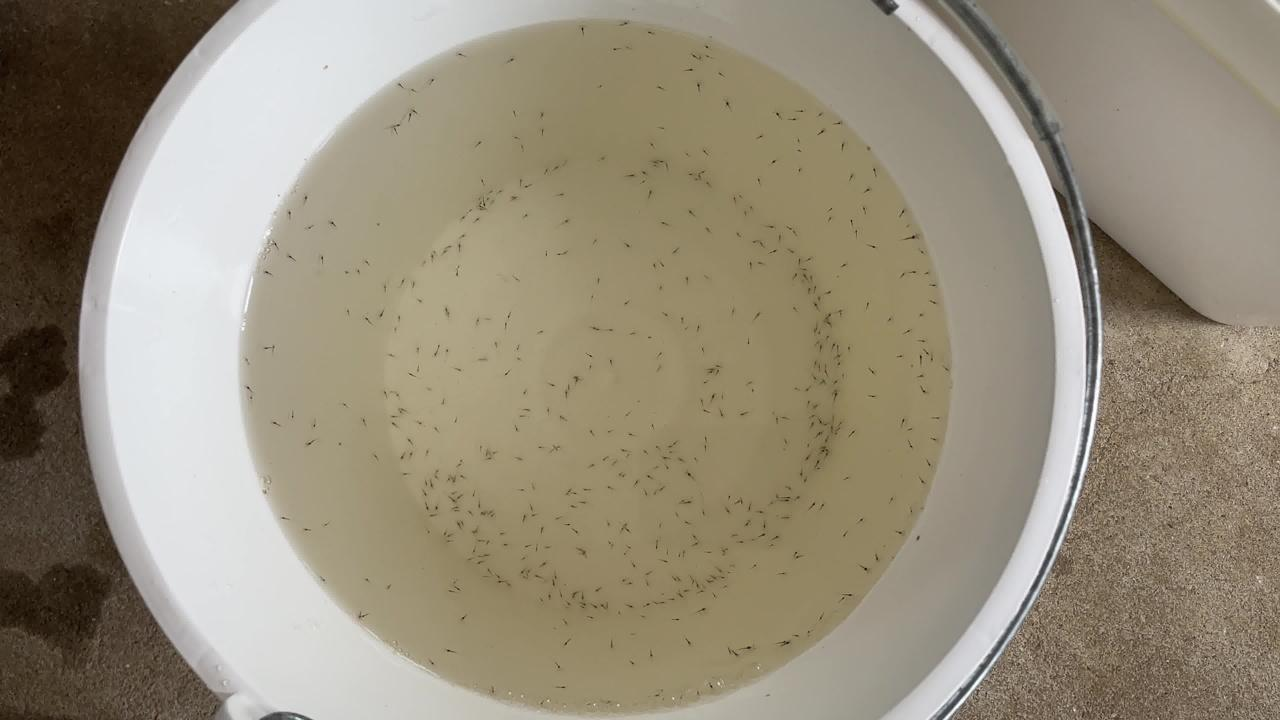shrimp: (302, 200, 314, 208), (285, 213, 297, 221), (270, 245, 282, 253), (263, 267, 275, 275), (260, 345, 272, 353), (266, 345, 278, 353), (245, 360, 257, 368), (241, 386, 253, 394), (246, 396, 258, 404), (286, 253, 298, 261), (310, 223, 322, 231), (327, 221, 339, 229), (316, 252, 328, 260), (339, 272, 351, 280), (357, 269, 369, 277), (362, 261, 374, 269), (390, 128, 402, 136), (388, 121, 400, 129), (401, 116, 413, 124), (408, 110, 420, 118), (393, 80, 405, 88), (404, 85, 416, 93), (423, 82, 435, 90), (452, 57, 464, 65), (505, 58, 517, 66), (271, 420, 283, 428), (283, 412, 295, 420), (306, 425, 318, 433), (304, 439, 316, 447), (280, 515, 292, 523), (301, 525, 313, 533), (318, 521, 330, 529), (319, 579, 331, 587), (363, 578, 375, 586), (353, 611, 365, 619), (359, 611, 371, 619), (385, 585, 397, 593), (426, 658, 438, 666), (442, 650, 454, 658), (460, 619, 472, 627), (445, 589, 457, 597), (452, 585, 464, 593), (447, 580, 459, 588), (554, 686, 566, 694), (549, 660, 561, 668), (557, 640, 569, 648), (609, 643, 621, 651), (630, 662, 642, 670), (646, 651, 658, 659), (651, 693, 663, 701), (601, 700, 613, 708), (722, 648, 734, 656), (733, 653, 745, 661), (707, 682, 719, 690), (693, 690, 705, 698), (742, 647, 754, 655), (777, 636, 789, 644), (783, 645, 795, 653), (789, 634, 801, 642), (689, 638, 701, 646), (337, 403, 349, 411), (357, 417, 369, 425), (368, 450, 380, 458), (343, 310, 355, 318), (362, 317, 374, 325), (374, 313, 386, 321), (380, 285, 392, 293), (394, 281, 406, 289), (408, 283, 420, 291), (393, 315, 405, 323), (389, 327, 401, 335), (386, 354, 398, 362), (381, 392, 393, 400), (392, 394, 404, 402), (386, 412, 398, 420), (390, 423, 402, 431), (393, 409, 405, 417), (397, 405, 409, 413), (396, 454, 408, 462), (406, 450, 418, 458), (399, 469, 411, 477), (402, 436, 414, 444), (412, 419, 424, 427), (404, 372, 416, 380), (413, 367, 425, 375), (411, 348, 423, 356), (416, 297, 428, 305), (418, 261, 430, 269), (424, 257, 436, 265), (429, 251, 441, 259), (437, 254, 449, 262), (441, 247, 453, 255), (453, 246, 465, 254), (456, 237, 468, 245), (459, 215, 471, 223), (464, 206, 476, 214), (472, 220, 484, 228), (476, 208, 488, 216), (476, 205, 488, 213), (473, 199, 485, 207), (477, 196, 489, 204), (482, 197, 494, 205), (486, 202, 498, 210), (483, 192, 495, 200), (479, 180, 491, 188), (476, 138, 488, 146), (507, 113, 519, 121), (511, 133, 523, 141), (494, 185, 506, 193), (511, 197, 523, 205), (513, 179, 525, 187), (512, 143, 524, 151), (525, 182, 537, 190), (537, 132, 549, 140), (537, 111, 549, 119), (542, 168, 554, 176), (550, 163, 562, 171), (517, 212, 529, 220), (453, 270, 465, 278), (440, 310, 452, 318), (428, 349, 440, 357), (441, 347, 453, 355), (424, 385, 436, 393), (435, 400, 447, 408), (434, 422, 446, 430), (451, 416, 463, 424), (418, 450, 430, 458), (417, 491, 429, 499), (419, 479, 431, 487), (428, 482, 440, 490), (430, 474, 442, 482), (432, 468, 444, 476), (442, 478, 454, 486), (459, 472, 471, 480), (452, 476, 464, 484), (445, 477, 457, 485), (451, 464, 463, 472), (457, 457, 469, 465), (419, 503, 431, 511), (431, 504, 443, 512), (426, 512, 438, 520), (423, 529, 435, 537), (453, 509, 465, 517), (450, 504, 462, 512), (447, 497, 459, 505), (449, 492, 461, 500), (454, 496, 466, 504), (470, 489, 482, 497), (436, 528, 448, 536), (442, 533, 454, 541), (444, 540, 456, 548), (450, 521, 462, 529), (456, 518, 468, 526), (466, 510, 478, 518), (473, 501, 485, 509), (470, 527, 482, 535), (476, 538, 488, 546), (469, 544, 481, 552), (465, 553, 477, 561), (483, 553, 495, 561), (473, 556, 485, 564), (483, 569, 495, 577), (481, 576, 493, 584), (492, 572, 504, 580), (497, 579, 509, 587), (503, 585, 515, 593), (501, 542, 513, 550), (476, 509, 488, 517), (484, 509, 496, 517), (488, 513, 500, 521), (498, 533, 510, 541), (523, 545, 535, 553), (532, 546, 544, 554), (540, 544, 552, 552), (519, 554, 531, 562), (542, 559, 554, 567), (525, 566, 537, 574), (518, 567, 530, 575), (521, 574, 533, 582), (535, 572, 547, 580), (550, 568, 562, 576), (546, 577, 558, 585), (544, 590, 556, 598), (537, 595, 549, 603), (554, 591, 566, 599), (562, 599, 574, 607), (567, 590, 579, 598), (578, 593, 590, 601), (576, 600, 588, 608), (577, 606, 589, 614), (583, 602, 595, 610), (597, 604, 609, 612), (603, 603, 615, 611), (588, 615, 600, 623), (560, 620, 572, 628), (671, 615, 683, 623), (702, 608, 714, 616), (814, 616, 826, 624), (805, 627, 817, 635), (837, 597, 849, 605), (848, 592, 860, 600), (860, 565, 872, 573), (876, 557, 888, 565), (792, 555, 804, 563), (791, 549, 803, 557), (779, 574, 791, 582), (753, 563, 765, 571), (727, 568, 739, 576), (720, 575, 732, 583), (717, 567, 729, 575), (707, 573, 719, 581), (705, 579, 717, 587), (710, 594, 722, 602), (695, 587, 707, 595), (692, 581, 704, 589), (687, 578, 699, 586), (681, 590, 693, 598), (674, 594, 686, 602), (666, 597, 678, 605), (653, 600, 665, 608), (638, 617, 650, 625), (622, 604, 634, 612), (639, 602, 651, 610), (593, 588, 605, 596), (471, 444, 483, 452), (481, 446, 493, 454), (491, 449, 503, 457), (485, 451, 497, 459), (483, 460, 495, 468), (452, 365, 464, 373), (471, 320, 483, 328), (484, 316, 496, 324), (477, 359, 489, 367), (488, 342, 500, 350), (502, 326, 514, 334), (505, 312, 517, 320), (514, 277, 526, 285), (578, 31, 590, 39), (622, 19, 634, 27), (645, 30, 657, 38), (614, 45, 626, 53), (625, 43, 637, 51), (596, 83, 608, 91), (600, 155, 612, 163), (557, 190, 569, 198), (561, 220, 573, 228), (561, 249, 573, 257), (543, 250, 555, 258), (537, 328, 549, 336), (512, 343, 524, 351), (512, 356, 524, 364), (502, 366, 514, 374), (519, 386, 531, 394), (527, 405, 539, 413), (520, 414, 532, 422), (514, 423, 526, 431), (514, 457, 526, 465), (517, 488, 529, 496), (529, 484, 541, 492), (518, 512, 530, 520), (525, 507, 537, 515), (528, 515, 540, 523), (537, 528, 549, 536), (534, 447, 546, 455), (549, 450, 561, 458), (553, 444, 565, 452), (543, 408, 555, 416), (564, 417, 576, 425), (542, 382, 554, 390), (561, 395, 573, 403), (565, 385, 577, 393), (575, 375, 587, 383), (587, 363, 599, 371), (584, 350, 596, 358), (590, 326, 602, 334), (607, 325, 619, 333), (589, 294, 601, 302), (595, 275, 607, 283), (588, 232, 600, 240), (622, 244, 634, 252), (625, 172, 637, 180), (638, 178, 650, 186), (639, 168, 651, 176), (645, 189, 657, 197), (648, 159, 660, 167), (656, 156, 668, 164), (662, 166, 674, 174), (650, 145, 662, 153), (658, 128, 670, 136), (651, 85, 663, 93), (686, 66, 698, 74), (688, 54, 700, 62), (703, 53, 715, 61), (700, 42, 712, 50), (694, 83, 706, 91), (719, 73, 731, 81), (726, 99, 738, 107), (774, 113, 786, 121), (791, 118, 803, 126), (796, 107, 808, 115), (812, 112, 824, 120), (833, 119, 845, 127), (816, 129, 828, 137), (838, 147, 850, 155), (874, 171, 886, 179), (847, 174, 859, 182), (864, 188, 876, 196), (858, 207, 870, 215), (824, 202, 836, 210), (792, 134, 804, 142), (793, 149, 805, 157), (794, 167, 806, 175), (753, 134, 765, 142), (701, 148, 713, 156), (684, 152, 696, 160), (701, 167, 713, 175), (696, 172, 708, 180), (687, 169, 699, 177), (692, 176, 704, 184), (705, 180, 717, 188), (773, 158, 785, 166), (755, 176, 767, 184), (737, 193, 749, 201), (728, 194, 740, 202), (691, 209, 703, 217), (661, 222, 673, 230), (674, 251, 686, 259), (661, 258, 673, 266), (651, 262, 663, 270), (625, 297, 637, 305), (626, 332, 638, 340), (607, 357, 619, 365), (584, 431, 596, 439), (605, 428, 617, 436), (587, 463, 599, 471), (564, 486, 576, 494), (565, 493, 577, 501), (568, 489, 580, 497), (569, 503, 581, 511), (579, 503, 591, 511), (582, 486, 594, 494), (552, 514, 564, 522), (564, 521, 576, 529), (572, 530, 584, 538), (576, 545, 588, 553), (580, 551, 592, 559), (602, 538, 614, 546), (606, 540, 618, 548), (624, 545, 636, 553), (618, 551, 630, 559), (628, 564, 640, 572), (623, 576, 635, 584), (625, 583, 637, 591), (643, 571, 655, 579), (643, 584, 655, 592), (667, 577, 679, 585), (680, 579, 692, 587), (609, 521, 621, 529), (619, 526, 631, 534), (619, 526, 631, 534), (603, 485, 615, 493), (597, 456, 609, 464), (611, 463, 623, 471), (614, 471, 626, 479), (619, 475, 631, 483), (619, 444, 631, 452), (622, 452, 634, 460), (626, 432, 638, 440), (625, 413, 637, 421), (651, 343, 663, 351), (655, 364, 667, 372), (660, 310, 672, 318), (662, 282, 674, 290), (681, 280, 693, 288), (705, 279, 717, 287), (678, 314, 690, 322), (684, 324, 696, 332), (693, 330, 705, 338), (697, 347, 709, 355), (708, 362, 720, 370), (706, 367, 718, 375), (713, 371, 725, 379), (715, 363, 727, 371), (699, 377, 711, 385), (700, 396, 712, 404), (703, 409, 715, 417), (709, 397, 721, 405), (717, 396, 729, 404), (716, 408, 728, 416), (741, 412, 753, 420), (750, 387, 762, 395), (745, 376, 757, 384), (650, 421, 662, 429), (640, 449, 652, 457), (649, 445, 661, 453), (667, 443, 679, 451), (672, 439, 684, 447), (665, 448, 677, 456), (675, 456, 687, 464), (662, 453, 674, 461), (661, 461, 673, 469), (653, 461, 665, 469), (632, 476, 644, 484), (644, 470, 656, 478), (638, 489, 650, 497), (647, 486, 659, 494), (660, 482, 672, 490), (686, 471, 698, 479), (690, 460, 702, 468), (700, 448, 712, 456), (702, 438, 714, 446), (650, 539, 662, 547), (663, 561, 675, 569), (662, 552, 674, 560), (654, 522, 666, 530), (686, 501, 698, 509), (679, 496, 691, 504), (672, 514, 684, 522), (688, 524, 700, 532), (671, 551, 683, 559), (686, 533, 698, 541), (682, 520, 694, 528), (679, 548, 691, 556), (686, 539, 698, 547), (703, 551, 715, 559), (720, 550, 732, 558), (699, 511, 711, 519), (724, 510, 736, 518), (896, 206, 908, 214), (913, 232, 925, 240), (918, 247, 930, 255), (922, 271, 934, 279), (927, 282, 939, 290), (927, 298, 939, 306), (943, 365, 955, 373), (932, 419, 944, 427), (931, 436, 943, 444), (926, 459, 938, 467), (918, 475, 930, 483), (903, 508, 915, 516), (898, 526, 910, 534), (887, 497, 899, 505), (854, 520, 866, 528), (840, 531, 852, 539), (803, 504, 815, 512), (820, 504, 832, 512), (846, 475, 858, 483), (847, 428, 859, 436), (896, 416, 908, 424), (908, 428, 920, 436), (908, 442, 920, 450), (921, 387, 933, 395), (918, 376, 930, 384), (914, 360, 926, 368), (920, 350, 932, 358), (929, 358, 941, 366), (916, 337, 928, 345), (905, 325, 917, 333), (911, 269, 923, 277), (898, 268, 910, 276), (917, 311, 929, 319), (894, 354, 906, 362), (866, 368, 878, 376), (870, 388, 882, 396), (886, 317, 898, 325), (864, 302, 876, 310), (870, 251, 882, 259), (853, 230, 865, 238), (842, 217, 854, 225), (828, 215, 840, 223), (748, 205, 760, 213), (736, 210, 748, 218), (701, 227, 713, 235), (725, 306, 737, 314), (753, 314, 765, 322), (745, 340, 757, 348), (773, 418, 785, 426), (781, 413, 793, 421), (743, 264, 755, 272), (755, 260, 767, 268), (747, 238, 759, 246), (733, 227, 745, 235), (771, 223, 783, 231), (784, 226, 796, 234), (776, 236, 788, 244), (768, 251, 780, 259), (788, 248, 800, 256), (809, 257, 821, 265), (795, 258, 807, 266), (836, 263, 848, 271), (801, 272, 813, 280), (809, 271, 821, 279), (789, 270, 801, 278), (800, 285, 812, 293), (809, 280, 821, 288), (826, 292, 838, 300), (816, 297, 828, 305), (810, 301, 822, 309), (789, 309, 801, 317), (836, 311, 848, 319), (835, 307, 847, 315), (825, 310, 837, 318), (824, 322, 836, 330), (807, 325, 819, 333), (814, 329, 826, 337), (823, 330, 835, 338), (828, 338, 840, 346), (835, 342, 847, 350), (845, 343, 857, 351), (832, 349, 844, 357), (834, 360, 846, 368), (839, 371, 851, 379), (806, 337, 818, 345), (816, 345, 828, 353), (809, 360, 821, 368), (816, 364, 828, 372), (822, 367, 834, 375), (810, 374, 822, 382), (816, 379, 828, 387), (828, 378, 840, 386), (831, 394, 843, 402), (828, 387, 840, 395), (817, 379, 829, 387), (793, 385, 805, 393), (732, 500, 744, 508), (804, 399, 816, 407), (738, 496, 750, 504), (803, 388, 815, 396), (746, 503, 758, 511), (805, 412, 817, 420), (779, 441, 791, 449), (732, 531, 744, 539), (755, 509, 767, 517), (742, 520, 754, 528), (733, 540, 745, 548), (772, 534, 784, 542), (749, 536, 761, 544), (767, 543, 779, 551), (760, 523, 772, 531), (785, 516, 797, 524), (757, 534, 769, 542), (779, 498, 791, 506), (833, 430, 845, 438), (836, 421, 848, 429), (813, 415, 825, 423), (805, 424, 817, 432), (828, 414, 840, 422), (819, 422, 831, 430), (828, 427, 840, 435), (814, 433, 826, 441), (803, 444, 815, 452), (824, 436, 836, 444), (817, 443, 829, 451), (787, 483, 799, 491), (795, 472, 807, 480), (772, 495, 784, 503), (763, 502, 775, 510), (791, 497, 803, 505), (800, 481, 812, 489), (803, 458, 815, 466), (810, 463, 822, 471), (822, 456, 834, 464), (821, 448, 833, 456)
